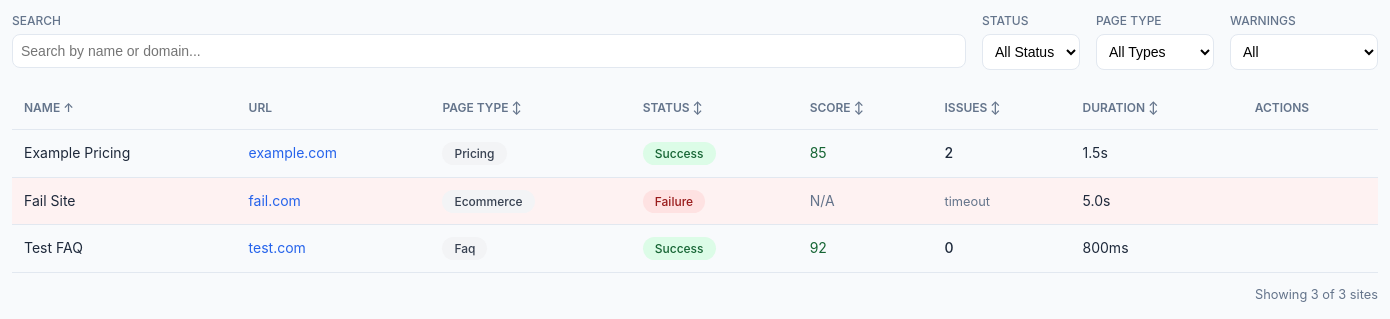
Test: EvaluationSiteTable › searching › filters by site name
This screenshot has width=1390, height=319.
Type "Example" into the search field named "Search sites by name or domain". click: (489, 51)
box: [12, 34, 966, 68]
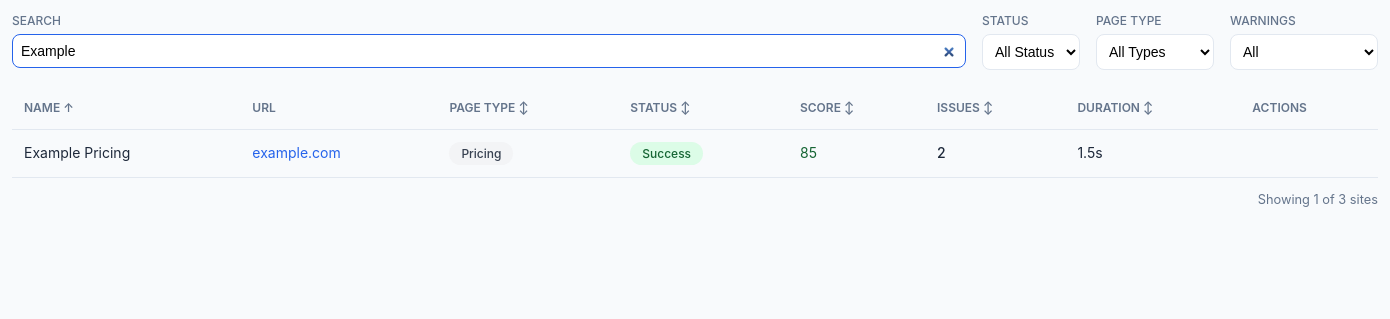
Expected: the text "Example Pricing" is shown, [12, 130, 240, 177]
Expected: the text "Test FAQ" is gone
Expected: the text "Fail Site" is gone
